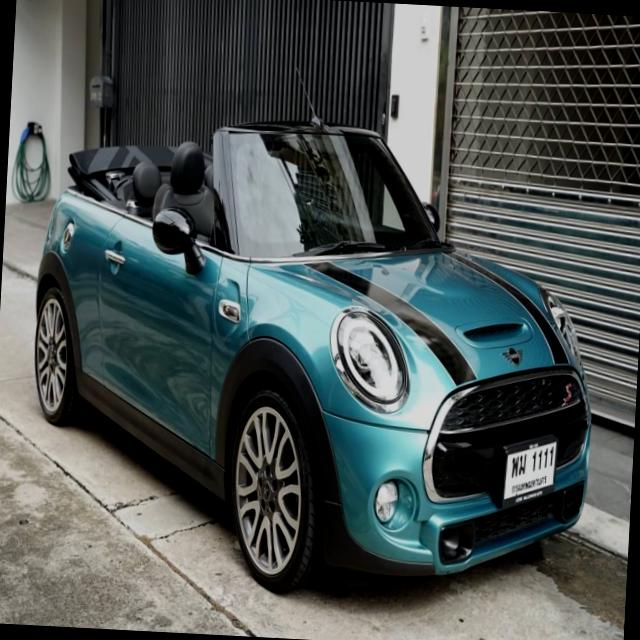license_plate: (488, 426, 565, 519)
